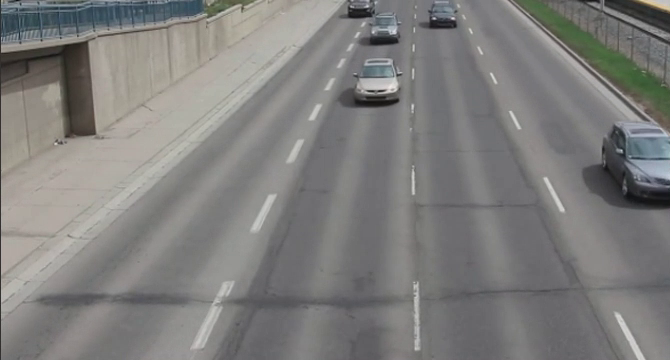car: (600, 120, 670, 206), (350, 58, 404, 108), (367, 13, 404, 45), (428, 1, 462, 30), (349, 5, 373, 18)
